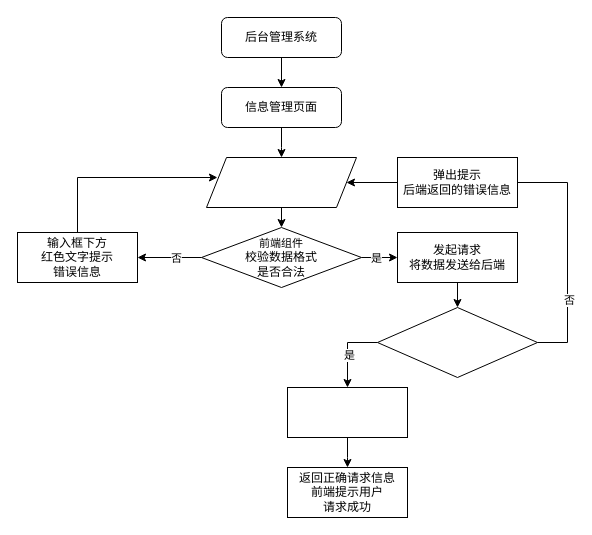
Some shapes in this 592 by 535 pixel diagram are drawn without their labels. The shapes that lost their labels are listed below. From the top down, each one's centre as x and y in pixels, then its label:
(x=281, y=182): 用户根据表单 输入需要添加的信息
(x=457, y=342): 后端 校验数据 是否合法
(x=347, y=412): 自动生成ID等内容 插入数据库
